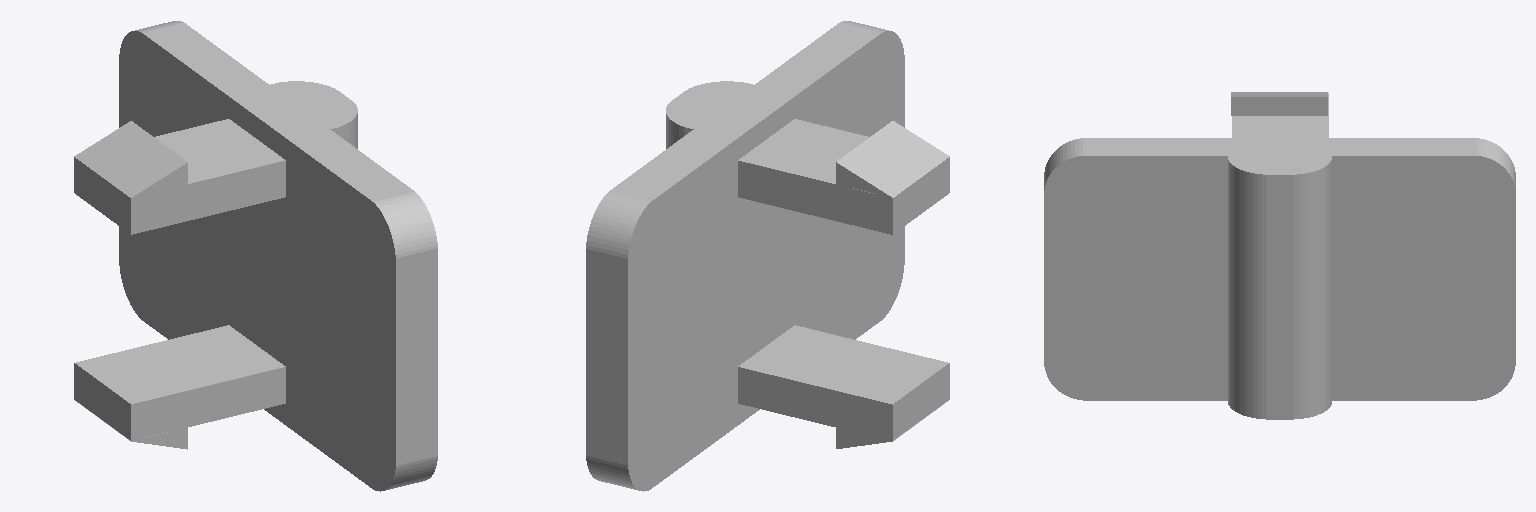
The robot description file, URDF, robot "think_shell":
<?xml version="1.0"?>
<robot name="think_shell">
  <link name="base_link">
    <visual>
      <origin xyz="0 0 0.02" rpy="0 0 0"/>
      <geometry>
        <mesh filename="../objects/Thinkpad_battery_release.stl" scale="0.005 0.005 0.005"/>
      </geometry>
      <material name="gray">
        <color rgba="0.8 0.8 0.8 1.0"/>
      </material>
    </visual>
    <collision>
      <origin xyz="0 0 0.02" rpy="0 0 0"/>
      <geometry>
        <mesh filename="../objects/Thinkpad_battery_release.stl" scale="0.005 0.005 0.005"/>
      </geometry>
    </collision>
    <inertial>
      <origin xyz="0 0 0" rpy="0 0 0"/>
      <mass value="1.0"/>
      <inertia ixx="0.001" ixy="0.0" ixz="0.0" iyy="0.001" iyz="0.0" izz="0.001"/>
    </inertial>
  </link>
</robot>

--- Render facts (derived) ---
The picture shows the robot from 3 angles, left to right: view 1: azimuth 30°, elevation 25°; view 2: azimuth 150°, elevation 25°; view 3: azimuth 270°, elevation 25°; orthographic projection.
Model think_shell with 1 links and 0 joints (none), rooted at base_link, posed every joint at zero.
Links seen in each view (by area): view 1: base_link; view 2: base_link; view 3: base_link.
Link boxes in pixels (<box>): base_link: <box>74,21,437,491</box>; base_link: <box>586,21,949,491</box>; base_link: <box>1044,92,1515,419</box>.
Bounding box of the posed robot: 0.0345 × 0.068 × 0.039 m (x, y, z).
Meshes: 1 distinct files referenced, 1 mesh visuals loaded (1 binary STL).
